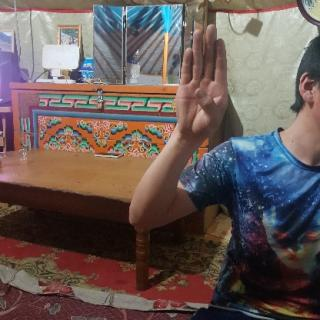KAAF: (169, 19, 232, 147)
